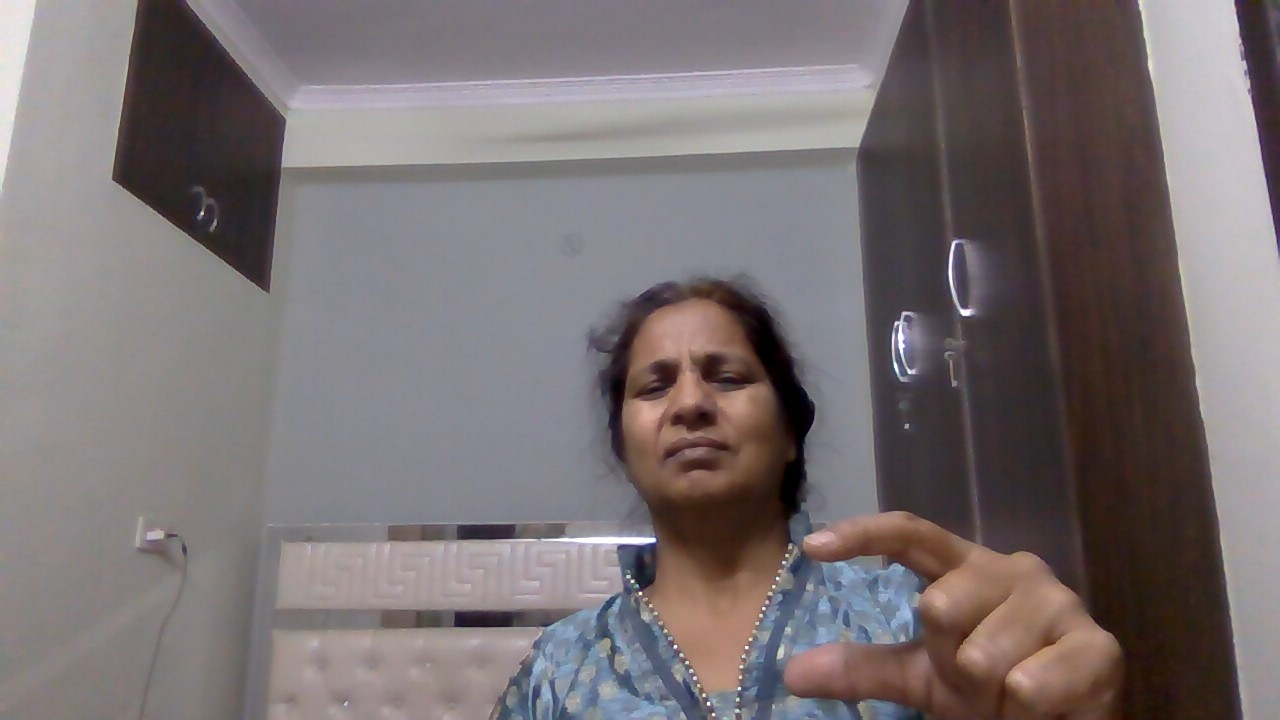Paste: (776, 505, 1167, 719)
